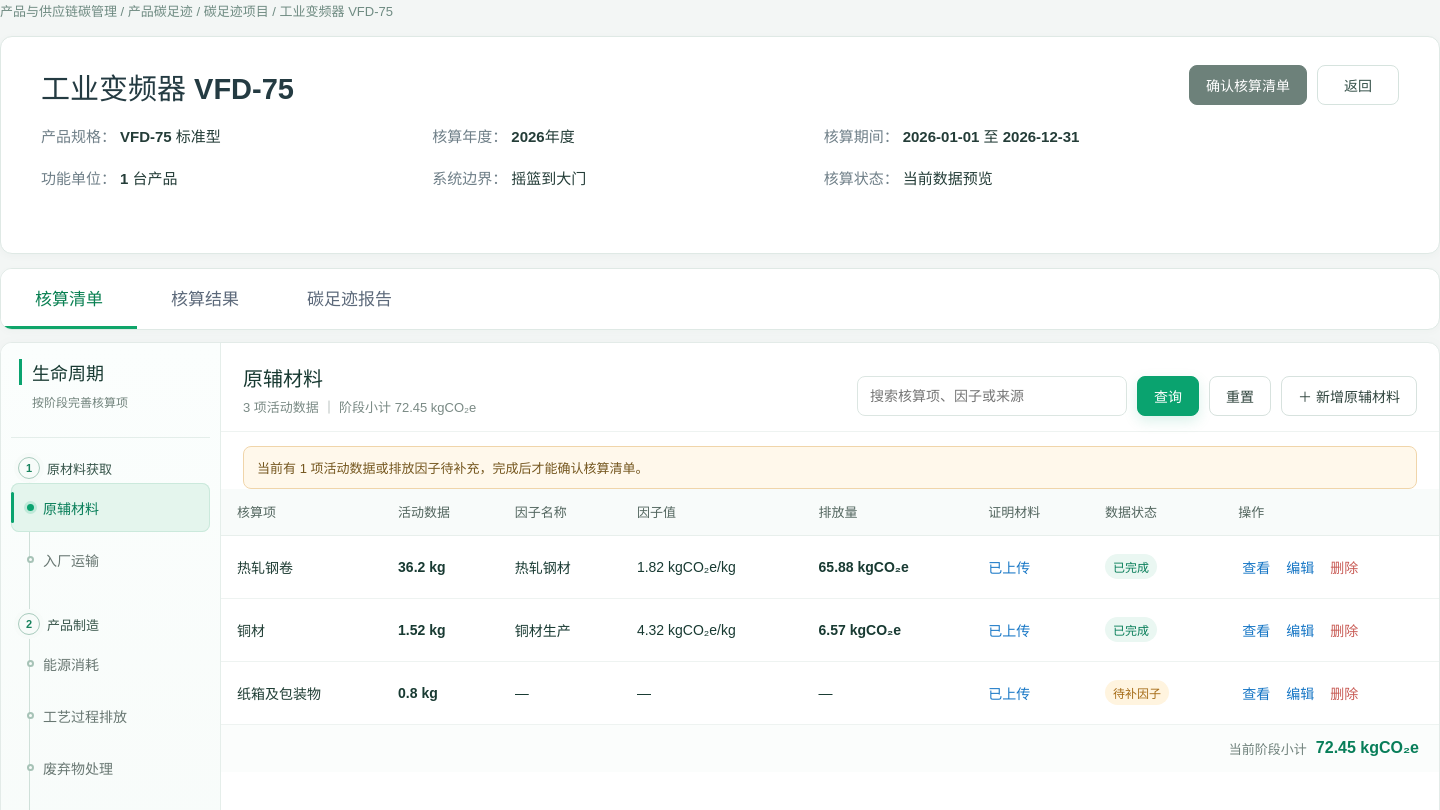
产品碳足迹运输活动 › 入厂运输复用统一的标准活动数据弹窗
The width and height of the screenshot is (1440, 810).
Click the button "入厂运输".
click(110, 560)  # box [11,535,210,584]
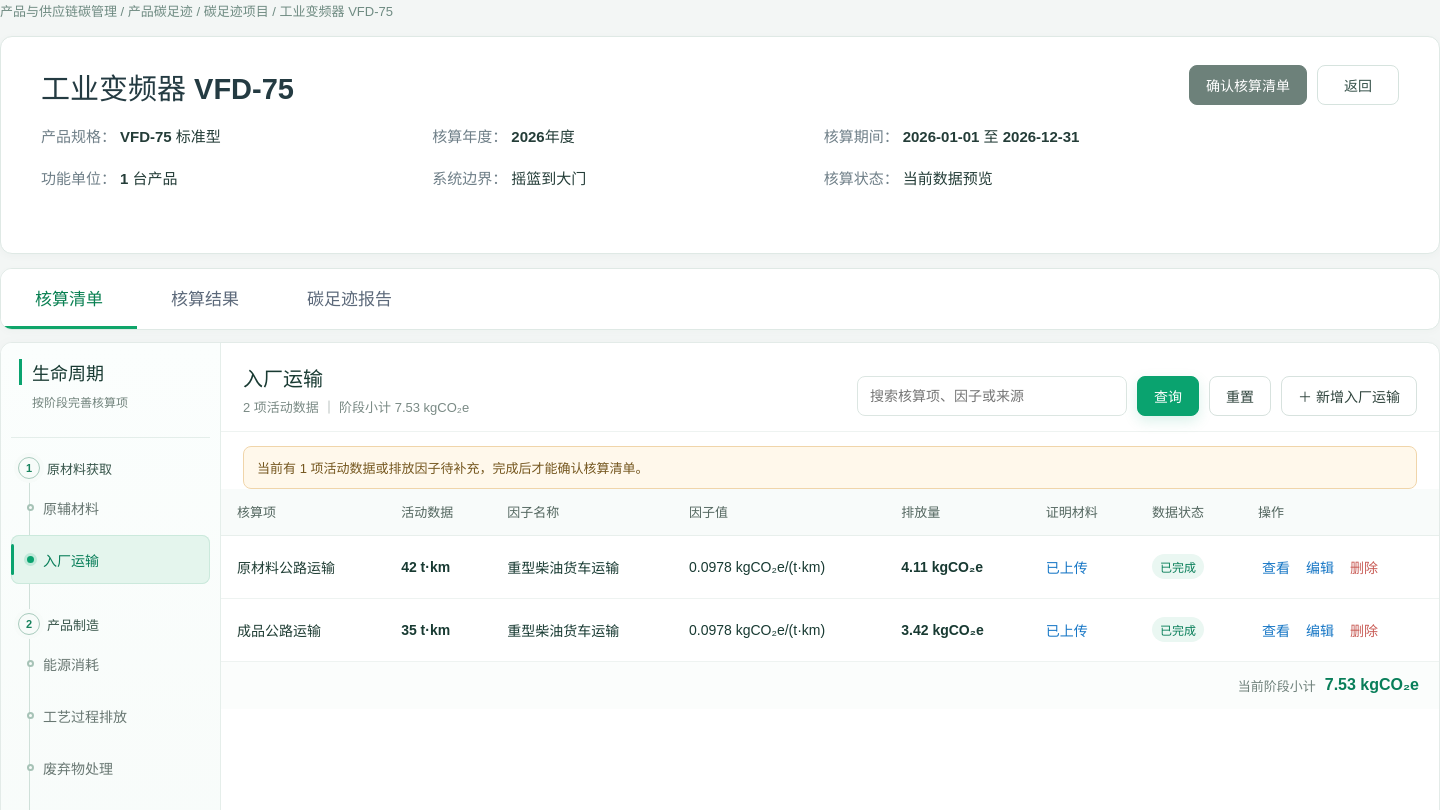
Click the button "＋ 新增入厂运输".
click(1349, 396)  # box [1281,376,1417,416]
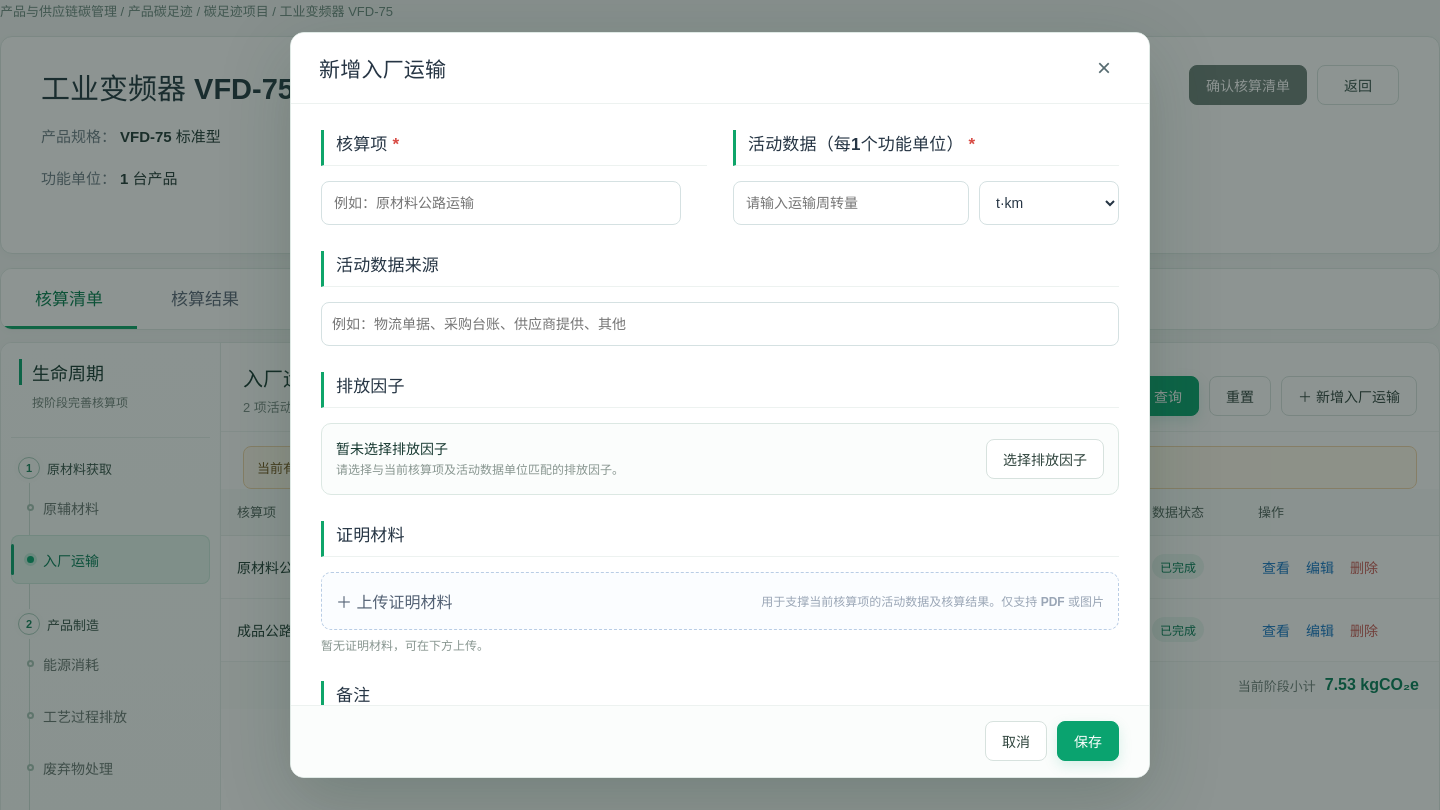
Result: the dialog shows "活动数据" at [748,135,969,154]
Result: the dialog shows "排放因子" at [336,377,405,396]
Result: the dialog shows "证明材料" at [336,526,405,545]
